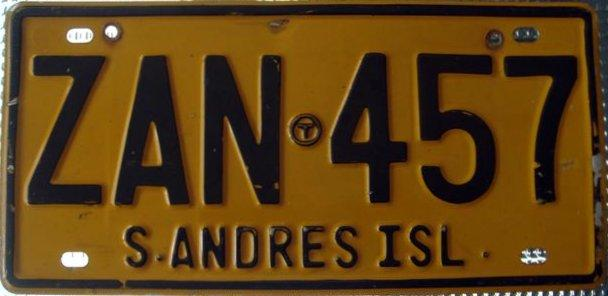placas: (1, 1, 604, 294)
